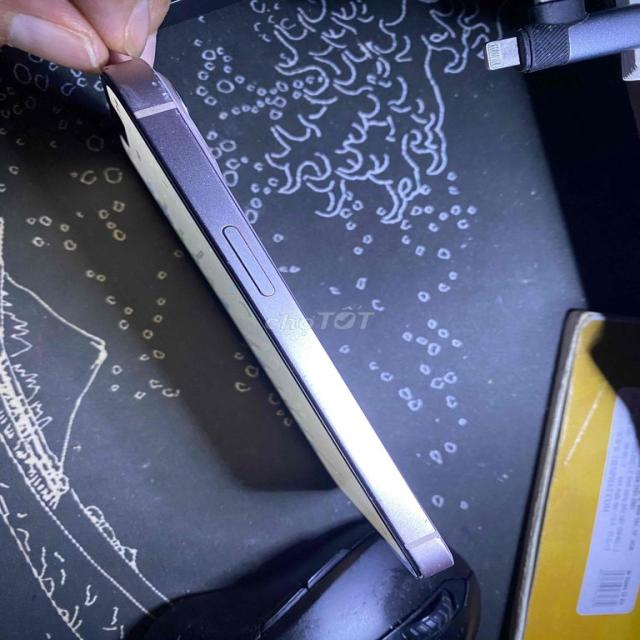gen_12_13: (92, 43, 465, 593)
